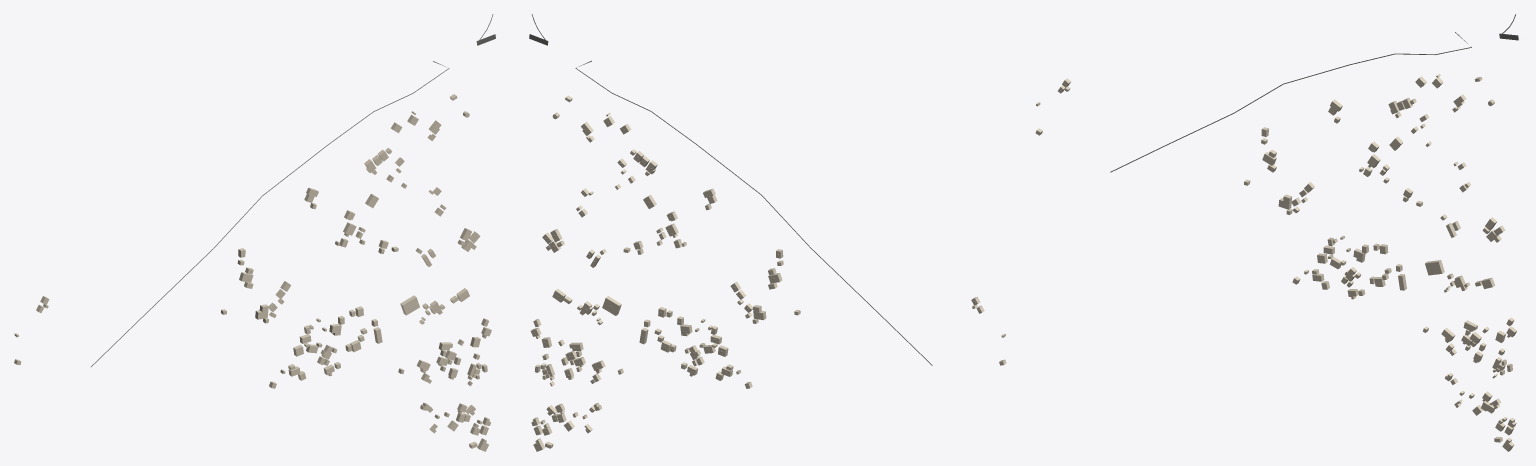
Rendered from historic-palestine-05_16_3474_3102.glb.
3 views of the same model, side by side, from view 1: azimuth 30°, elevation 25°; view 2: azimuth 150°, elevation 25°; view 3: azimuth 330°, elevation 25° (orthographic).
Parts seen in each view (by area): view 1: Road; view 2: Road; view 3: Road.
Part boxes in pixels (<box>): Road: <box>91,61,449,366</box>; Road: <box>575,60,932,365</box>; Road: <box>1110,32,1471,172</box>.
Size of the model in its own units: 822 by 711 by 8.7.
